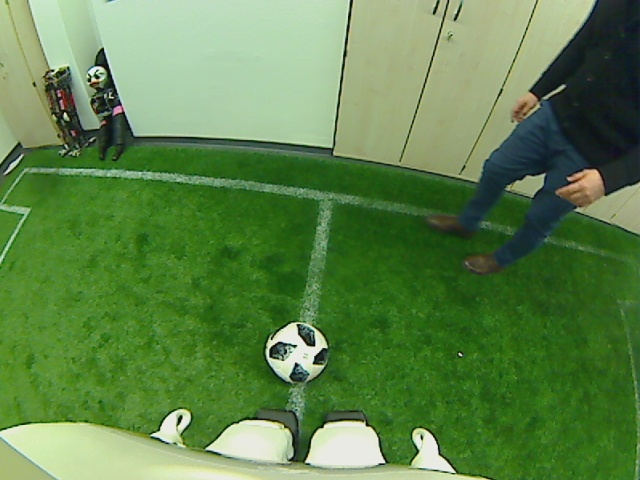ball: (261, 319, 330, 387)
